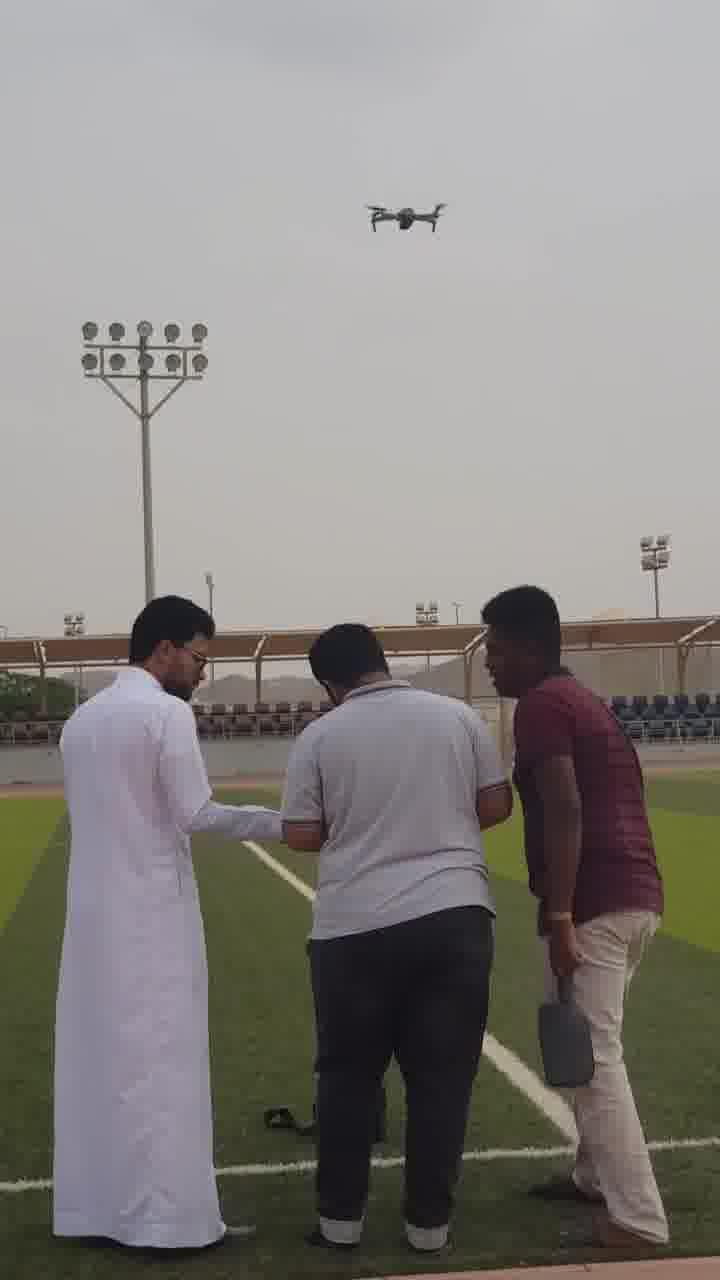drone: (346, 181, 459, 235)
